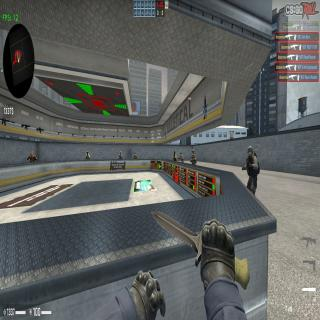CT-Body: (242, 146, 260, 196), (190, 150, 196, 166), (172, 150, 176, 162), (85, 151, 90, 160), (118, 152, 123, 160)
CT-Head: (247, 146, 253, 158), (192, 150, 194, 156), (173, 151, 176, 155), (86, 151, 88, 155), (120, 151, 121, 155)
T-Body: (27, 151, 37, 163), (178, 152, 184, 163), (133, 152, 137, 160)
T-Head: (31, 151, 34, 157), (134, 152, 136, 156), (180, 152, 182, 156)
